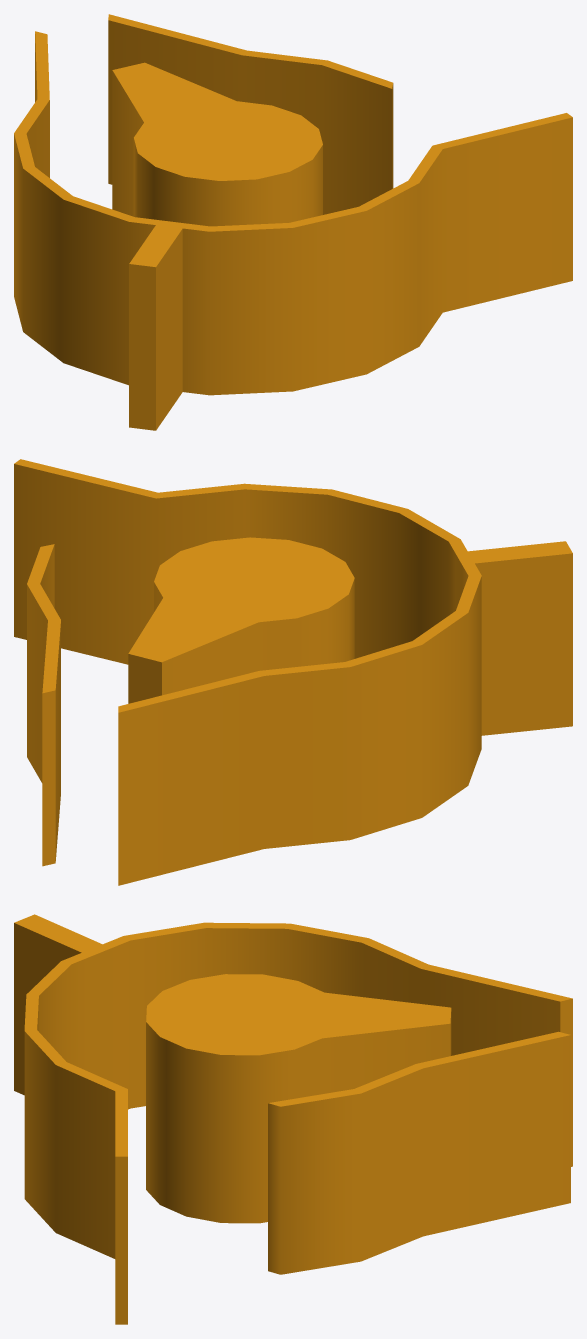
The model's file is Game_Center_Part.fbx.
The picture shows the model from 3 angles, top to bottom: view 1: azimuth 30°, elevation 25°; view 2: azimuth 150°, elevation 25°; view 3: azimuth 270°, elevation 25°; orthographic projection. The views are drawn at different scales.
Parts seen in each view (by area): view 1: Cylinder.001; view 2: Cylinder.001; view 3: Cylinder.001.
Boxes of the visible parts, left/top/right/bottom form: Cylinder.001: left=14, top=14, right=572, bottom=430; Cylinder.001: left=14, top=459, right=572, bottom=885; Cylinder.001: left=14, top=914, right=572, bottom=1324.
Bounding box in the file's own units: 1315 × 425 × 1282.
